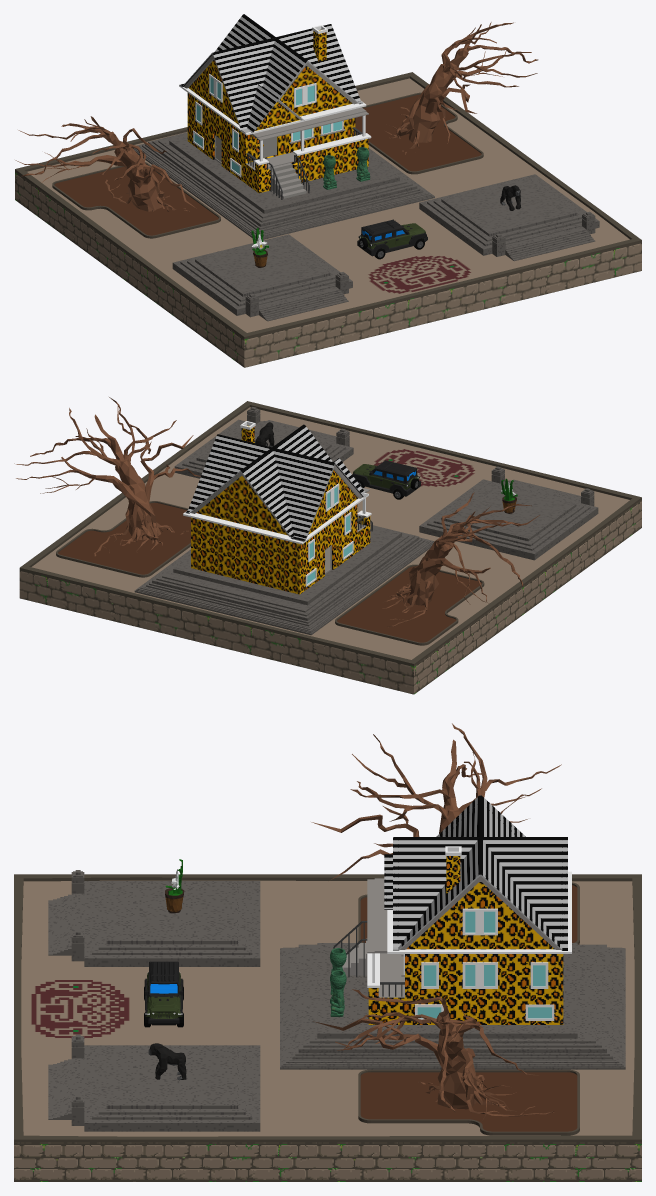
The picture shows the model from 3 angles, top to bottom: view 1: azimuth 30°, elevation 25°; view 2: azimuth 150°, elevation 25°; view 3: azimuth 270°, elevation 25°; orthographic projection. The views are drawn at different scales.
Visible parts, largest first — view 1: Cube.011, Cube.637, VEHICLES_JEEP; view 2: Cube.011, Cube.637, VEHICLES_JEEP; view 3: Cube.011, Cube.637, VEHICLES_JEEP, ANIMAL_GORILA.
Part boxes in pixels (<box>): Cube.011: <box>15,22,641,367</box>; Cube.637: <box>179,14,371,199</box>; VEHICLES_JEEP: <box>357,219,427,259</box>; Cube.011: <box>14,397,641,694</box>; Cube.637: <box>183,421,372,594</box>; VEHICLES_JEEP: <box>352,460,420,499</box>; Cube.011: <box>14,723,641,1181</box>; Cube.637: <box>333,795,571,1024</box>; VEHICLES_JEEP: <box>144,961,183,1027</box>; ANIMAL_GORILA: <box>148,1043,186,1080</box>.
Size of the model in its own units: 5099 by 1683 by 4000.
Materials: 33 (7 with a texture image).
